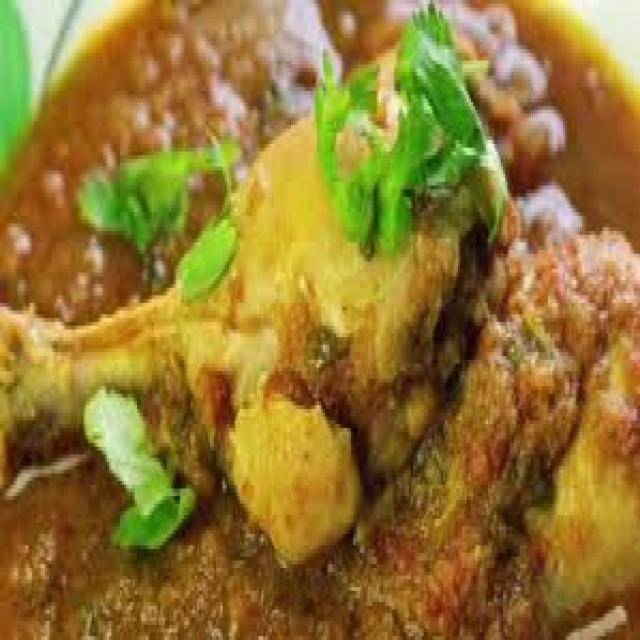Frango: (2, 7, 640, 640)
